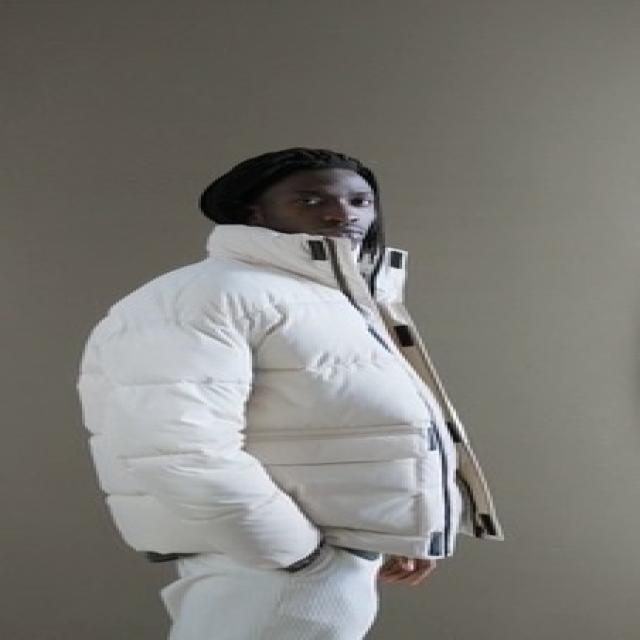Jacket_Wearer: (46, 221, 520, 554)
Person: (90, 132, 504, 640)
